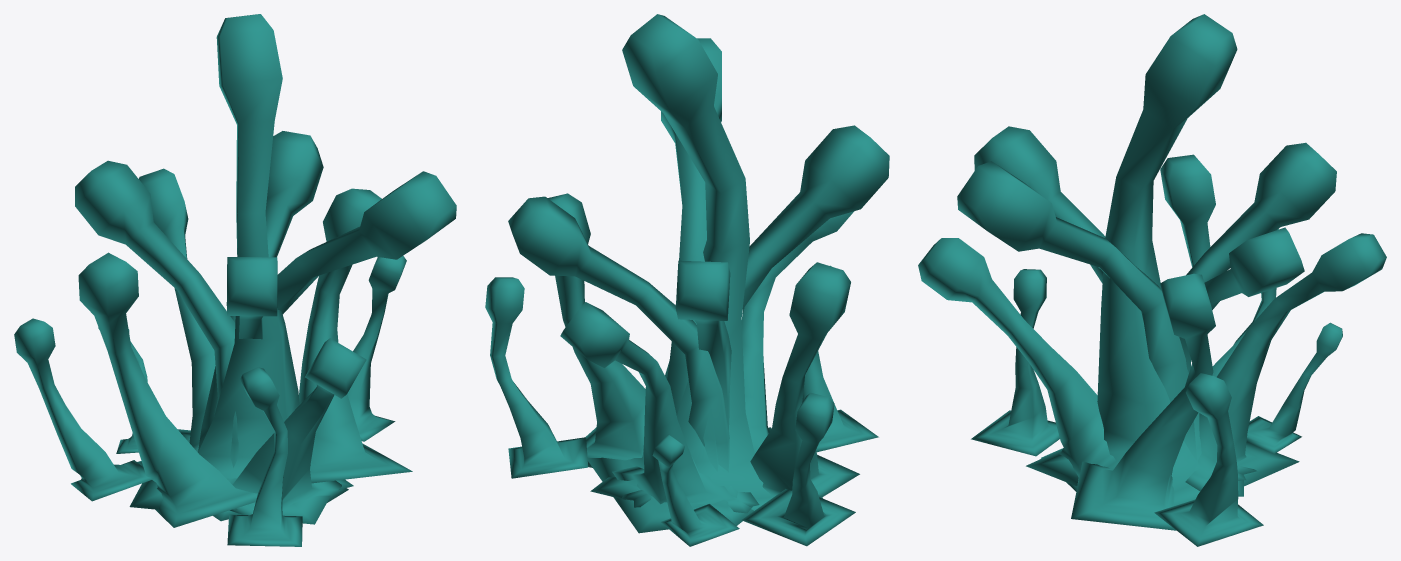
File: coral 6.fbx
The picture shows the model from 3 angles, left to right: view 1: azimuth 30°, elevation 25°; view 2: azimuth 150°, elevation 25°; view 3: azimuth 270°, elevation 25°; orthographic projection. The views are drawn at different scales.
Visible parts, largest first — view 1: node_id132; view 2: node_id132; view 3: node_id132.
Part boxes in pixels (bbox=[...]): node_id132: bbox=[14, 14, 456, 546]; node_id132: bbox=[485, 14, 889, 546]; node_id132: bbox=[918, 14, 1386, 546].
Bounding box in the file's own units: 0.4228 × 0.512 × 0.4705.
Materials: 1 (1 with a texture image).
